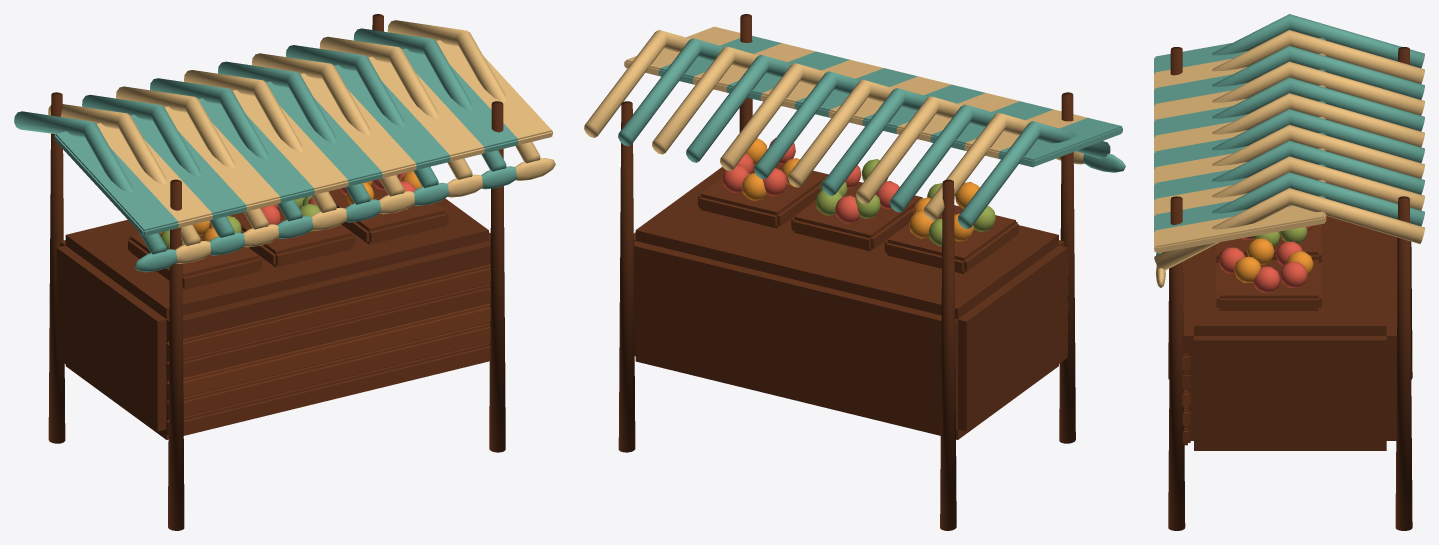
The model's file is market-stall-BIOLHwat.glb.
3 views of the same model, side by side, from view 1: azimuth 30°, elevation 25°; view 2: azimuth 150°, elevation 25°; view 3: azimuth 270°, elevation 25° (orthographic). The views are drawn at different scales.
Parts seen in each view (by area): view 1: market-stall; view 2: market-stall; view 3: market-stall.
Part boxes in pixels (x1,y1,x2,y2): market-stall: [14, 14, 555, 530]; market-stall: [584, 14, 1125, 530]; market-stall: [1154, 14, 1424, 530].
Size of the model in its own units: 2.9 by 2.43 by 1.7.
